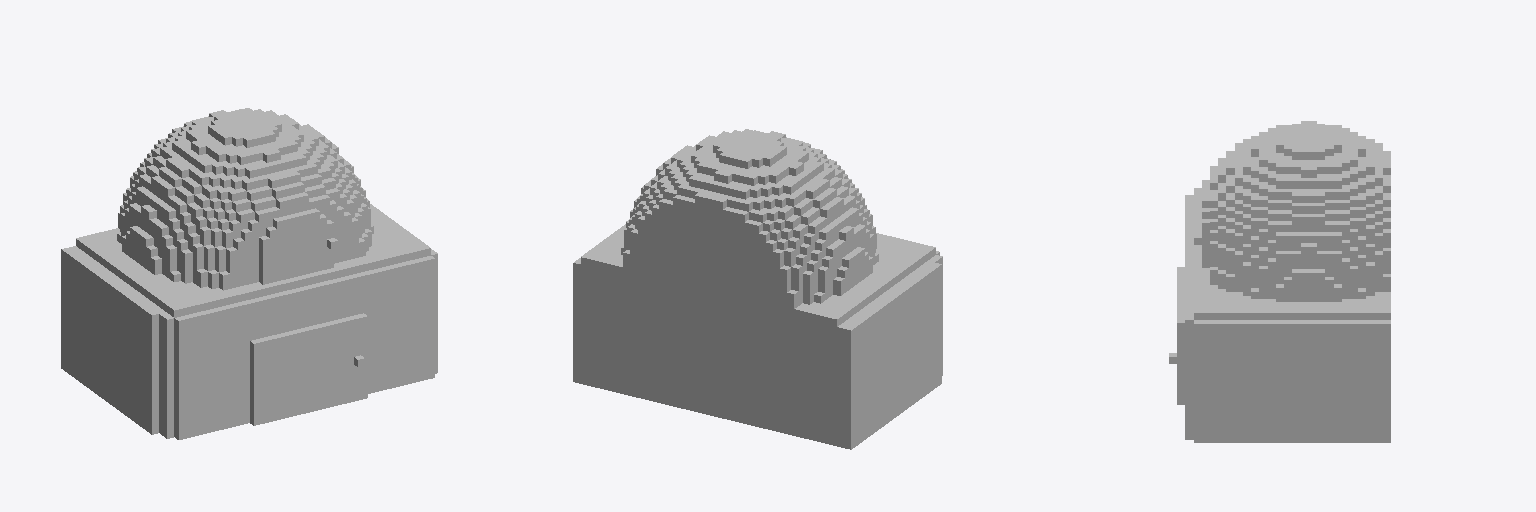
The model's file is Smelter.obj.
The picture shows the model from 3 angles: view 1: azimuth 30°, elevation 25°; view 2: azimuth 150°, elevation 25°; view 3: azimuth 270°, elevation 25°; orthographic projection.
Parts seen in each view (by area): view 1: object 1; view 2: object 1; view 3: object 1.
Part boxes in pixels (left/top/right/bottom): object 1: left=61, top=108, right=437, bottom=439; object 1: left=573, top=129, right=942, bottom=449; object 1: left=1169, top=121, right=1390, bottom=442.
Size of the model in its own units: 3.9 by 3.2 by 2.7.